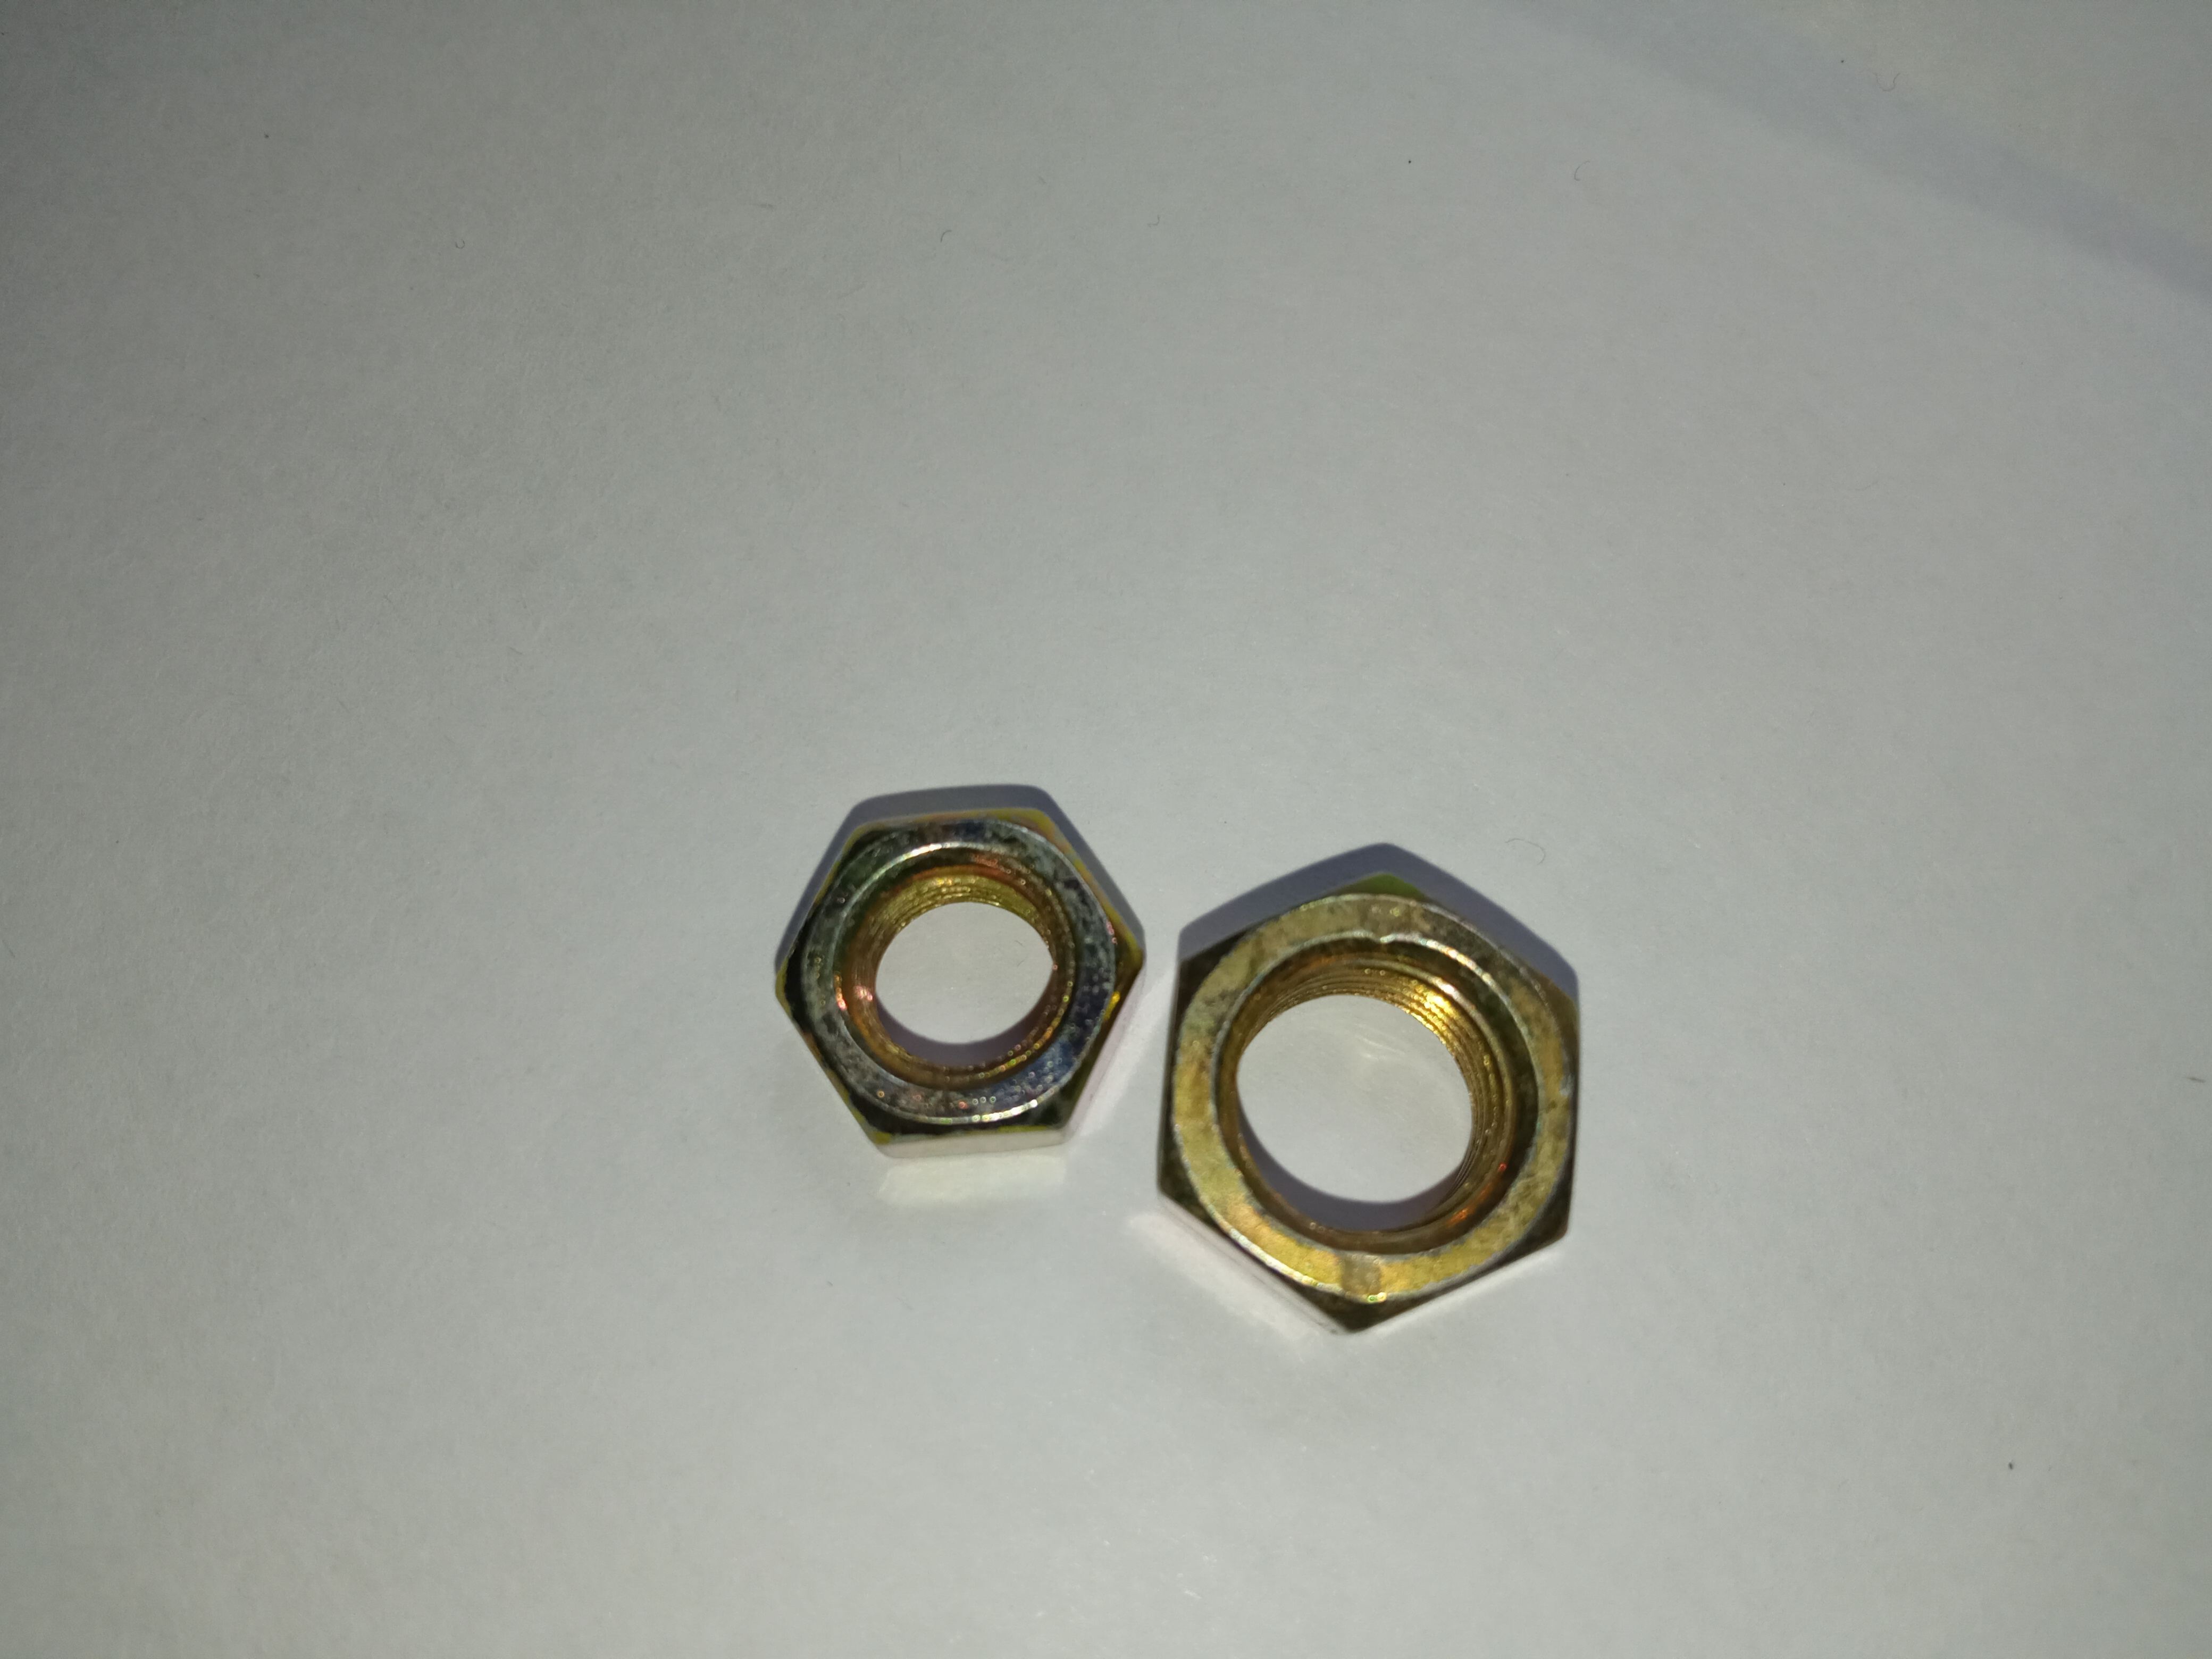m10: (1184, 875, 1585, 1317)
m8: (770, 807, 1125, 1154)
